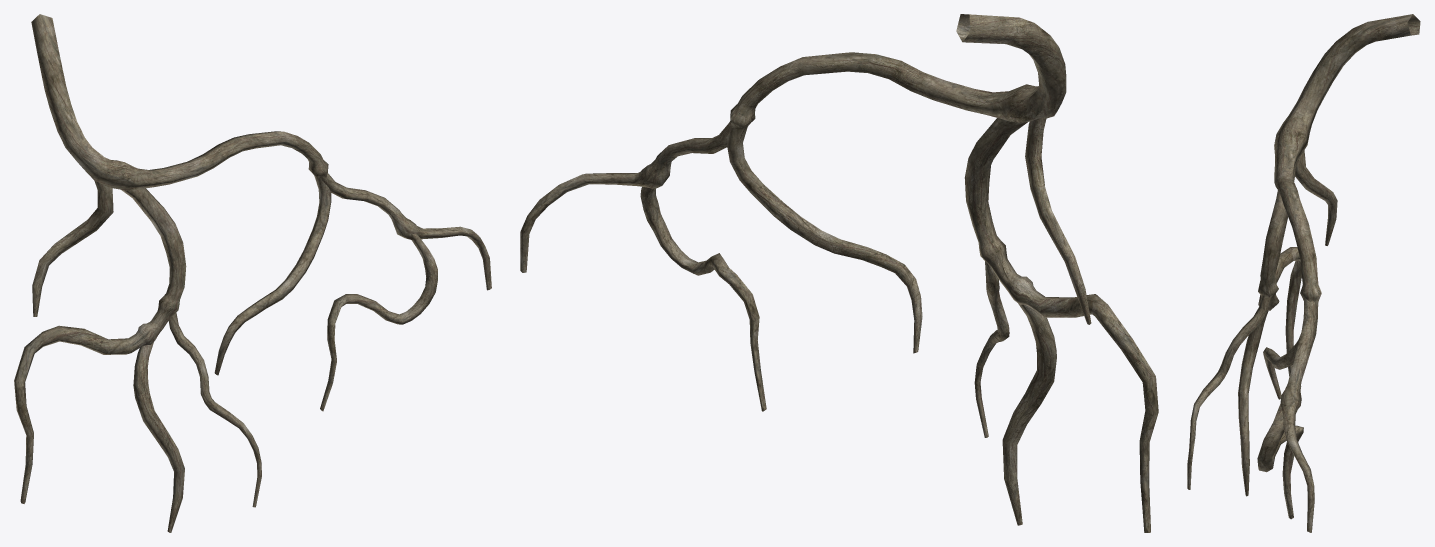
File: roots_caves_03.dae
3 views of the same model, side by side, from view 1: azimuth 30°, elevation 25°; view 2: azimuth 150°, elevation 25°; view 3: azimuth 270°, elevation 25° (orthographic). The views are drawn at different scales.
Visible parts, largest first — view 1: 03; view 2: 03; view 3: 03.
Part boxes in pixels (x1,y1,x2,y2): 03: (14,14,491,532); 03: (520,14,1158,532); 03: (1187,14,1420,532).
Bounding box in the file's own units: 3.67 × 3.4 × 1.56.
